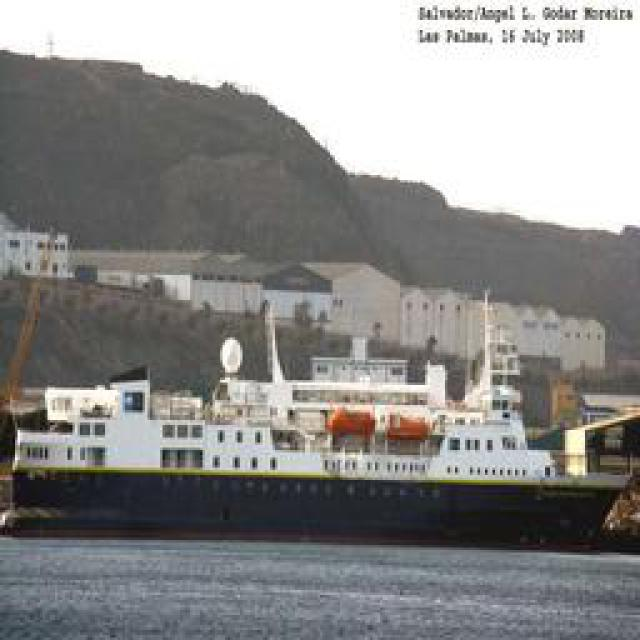Ship: (20, 296, 630, 541)
